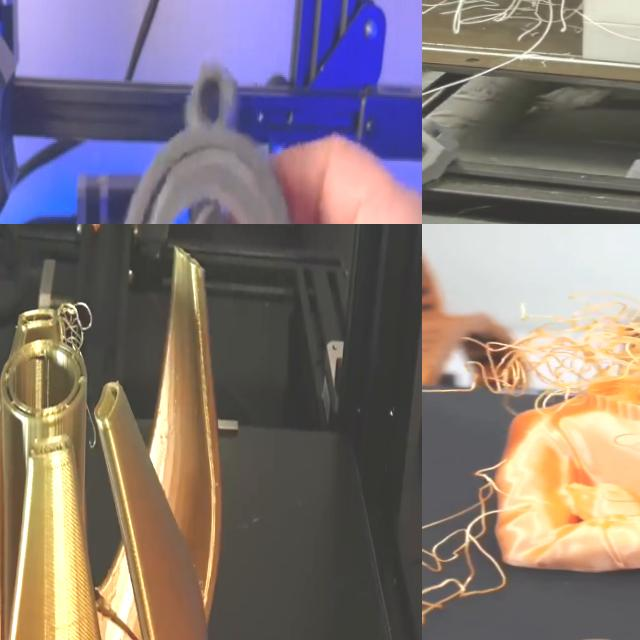spaghetti: (456, 267, 640, 515), (422, 0, 640, 179), (422, 453, 516, 610), (47, 284, 93, 350), (84, 411, 98, 455)
